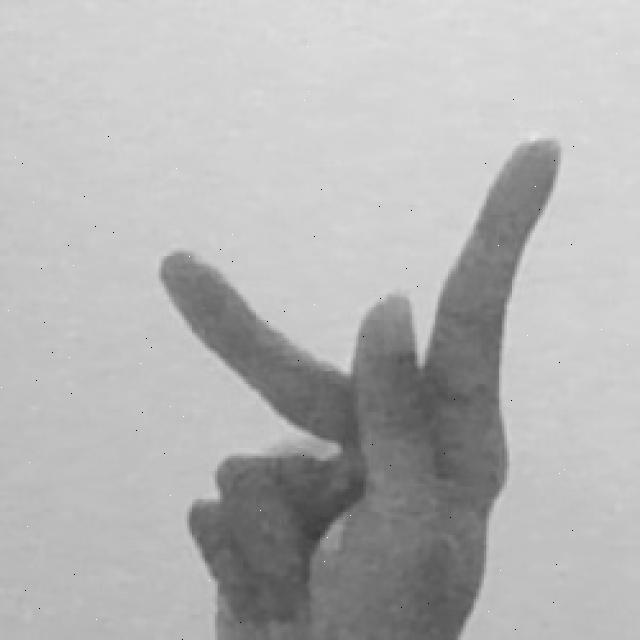K: (159, 133, 570, 640)
